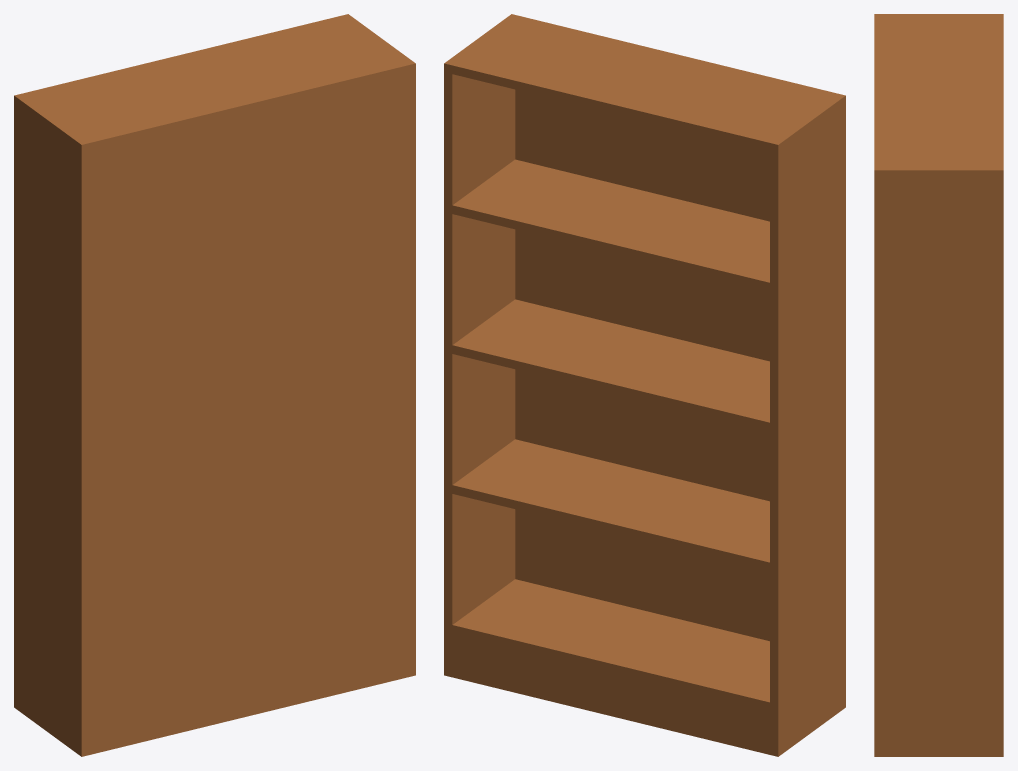
File: shelves_06.glb
3 renders of one model, left to right at view 1: azimuth 30°, elevation 25°; view 2: azimuth 150°, elevation 25°; view 3: azimuth 270°, elevation 25°, orthographic. The views are drawn at different scales.
Visible parts, largest first — view 1: Untitled; view 2: Untitled; view 3: Untitled.
Part boxes in pixels (x1,y1,x2,y2): Untitled: (14,14,415,756); Untitled: (444,14,845,756); Untitled: (874,14,1003,756).
Size of the model in its own units: 1.2 by 2.1 by 0.42.
1 material, 1 textured.
